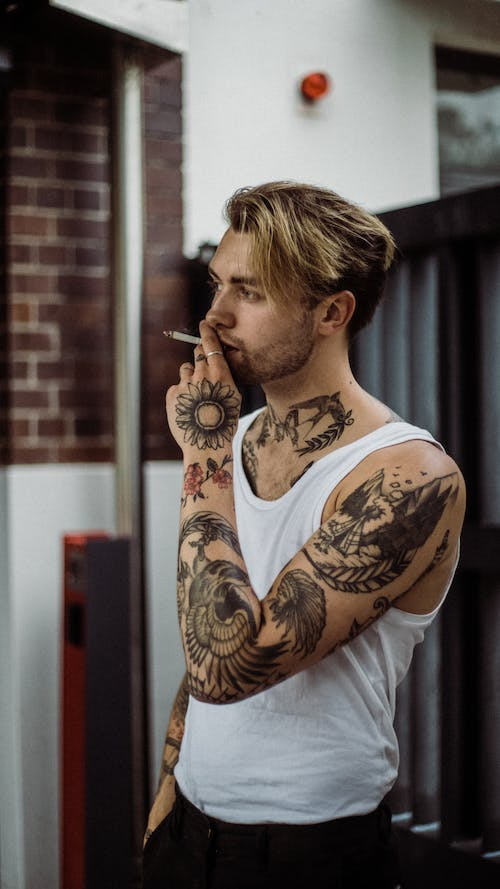cigarette: (160, 326, 205, 348)
